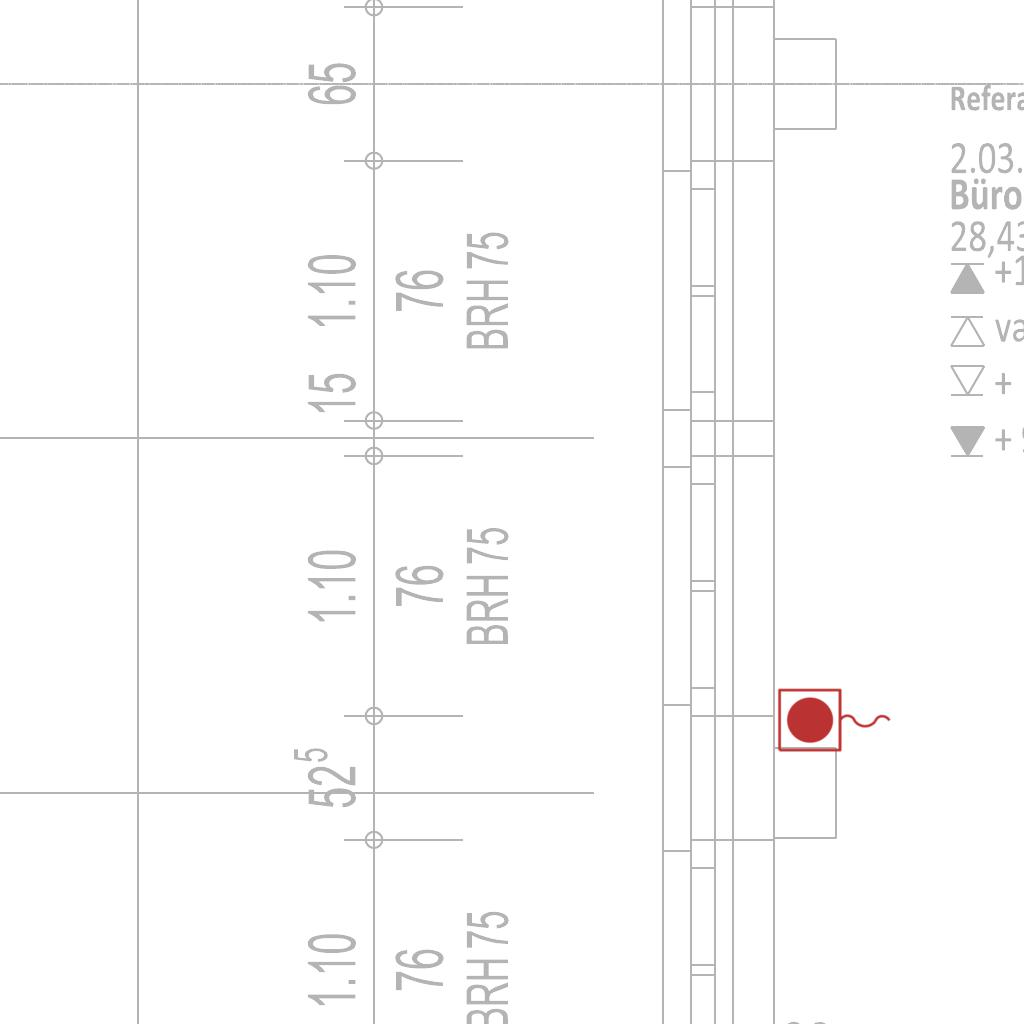Zugtaster: (774, 685, 896, 757)
